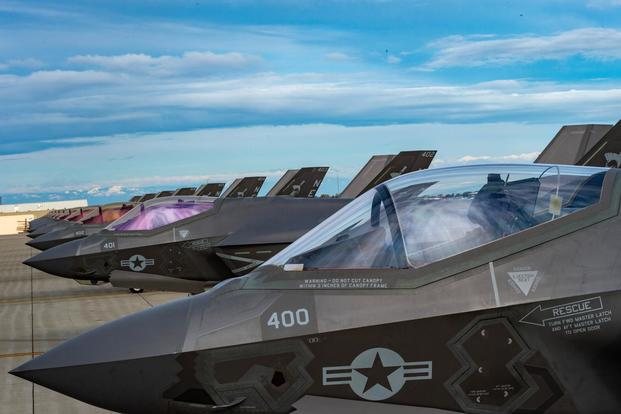F-35 Lightning: (5, 139, 620, 408), (18, 186, 236, 275)
